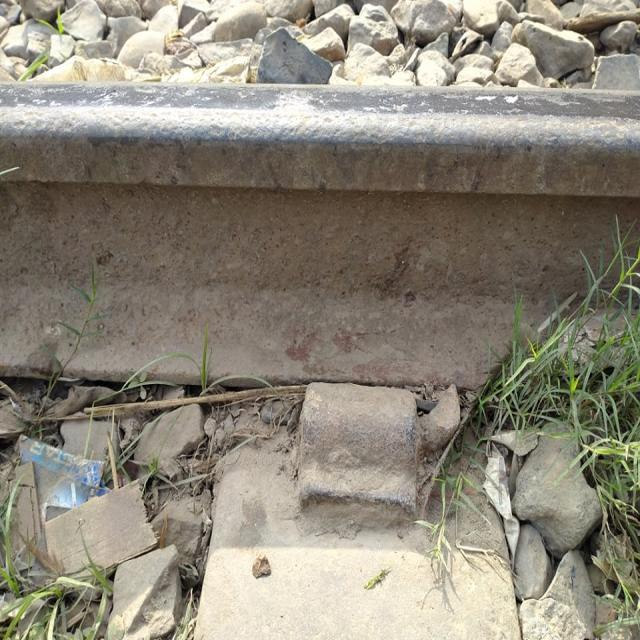Missing Fastener: (219, 361, 490, 573)
